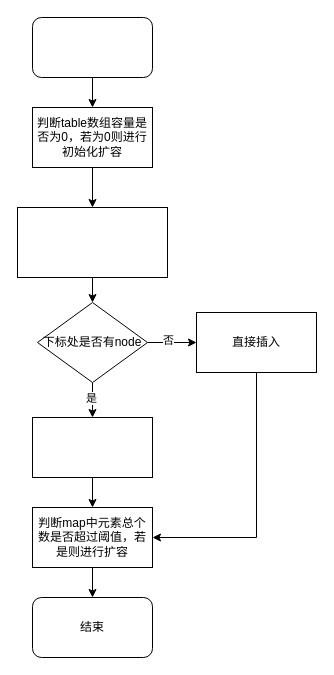
This 334x675 diagram has some shape labels left out. The centre of each missing label's shape, as x and y in pixels:
"开始" goes at point (92, 47).
"查找key是否在map中已经存在映射，若是则替换oldValue,若否则插入新的node" goes at point (92, 447).
"计算下标=key.hashCode & (n - 1)" goes at point (92, 242).
